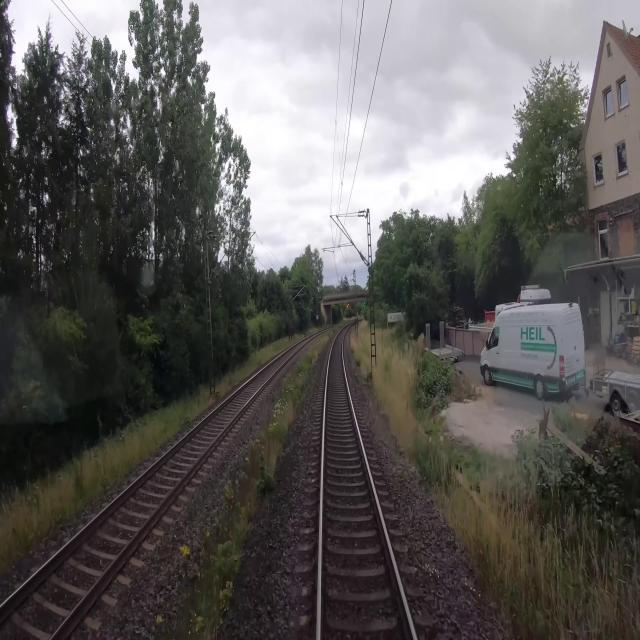Plant: (0, 312, 519, 639), (150, 329, 336, 639)
